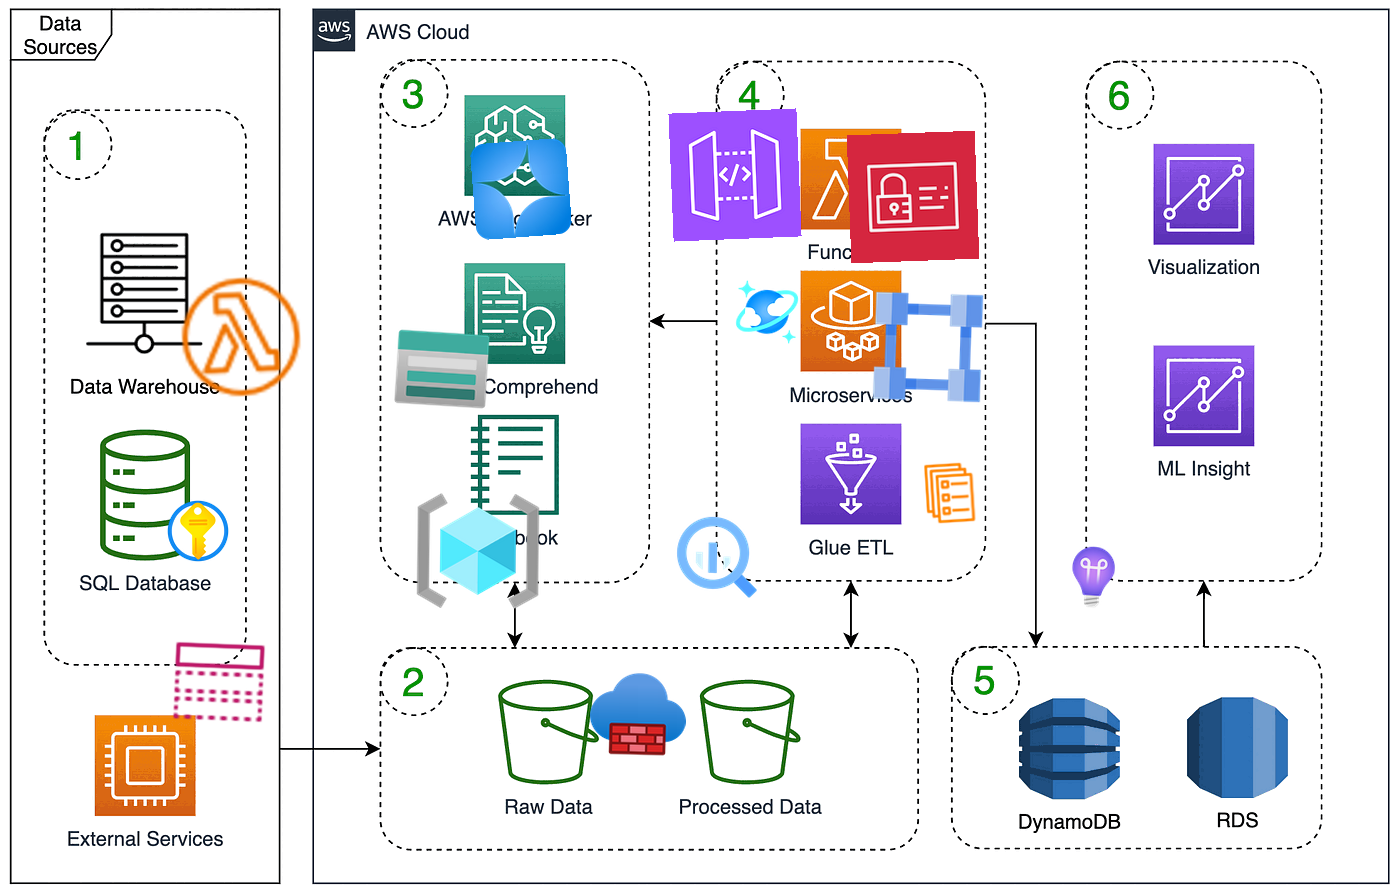aws_amazon_api_gateway: (668, 108, 802, 242)
aws_elastic_container_service_service: (916, 459, 984, 527)
aws_identity_and_access_management: (846, 130, 980, 264)
aws_lambda_lambda_function: (174, 270, 308, 404)
aws_simple_notification_service_topic: (169, 632, 269, 732)
azure_application_insights: (1058, 542, 1128, 612)
azure_cosmos_db: (733, 278, 801, 346)
azure_firewalls: (588, 664, 688, 764)
azure_key_vaults: (165, 498, 231, 564)
azure_openai: (469, 137, 573, 241)
azure_resource_groups: (413, 486, 543, 616)
azure_storage_accounts: (391, 318, 493, 420)
gcp_bigquery: (668, 508, 766, 606)
gcp_virtual_private_cloud: (862, 281, 994, 413)
